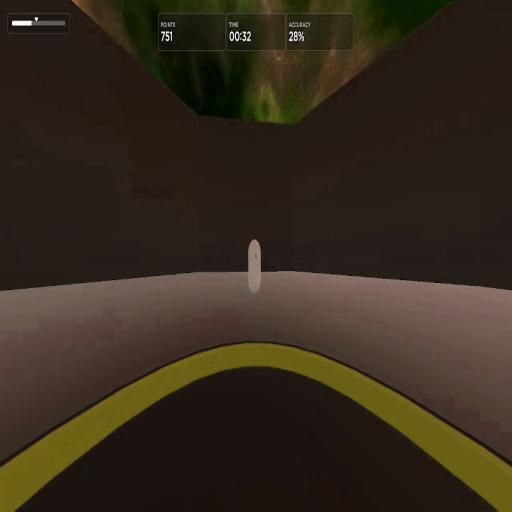Crosshair: (255, 254, 257, 257)
Target: (248, 238, 261, 295)
